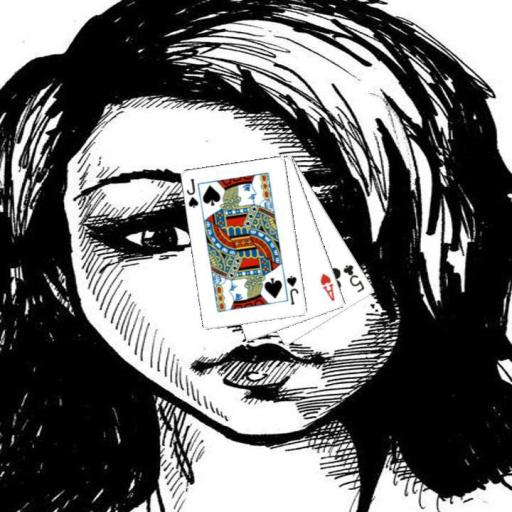5C: (340, 262, 366, 294)
AH: (318, 270, 337, 303)
JS: (183, 176, 200, 210), (284, 273, 300, 307)
